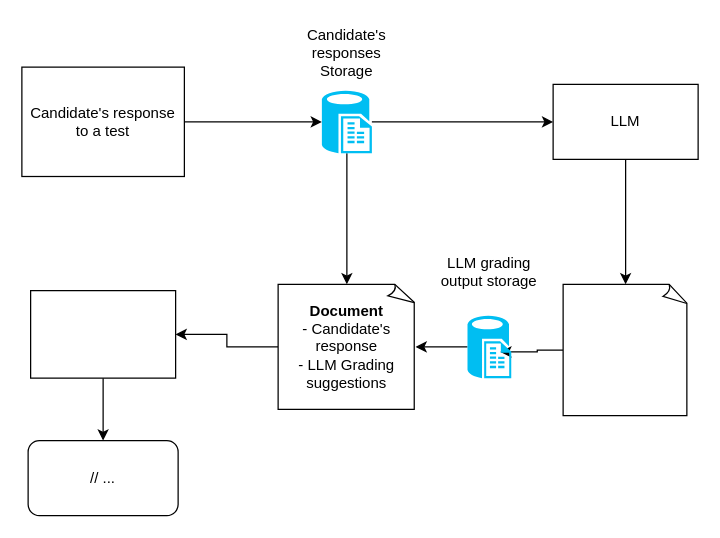
Image size: 720x538. Some labels were removed from this diagram. The shapes that lost their labels are listed below. From the top down, each one's box as (x1, y1, x2, y2) in pixels, then its label:
(29, 289, 176, 378): Grading consultants
(562, 283, 688, 416): Document LLM Grading suggestions
